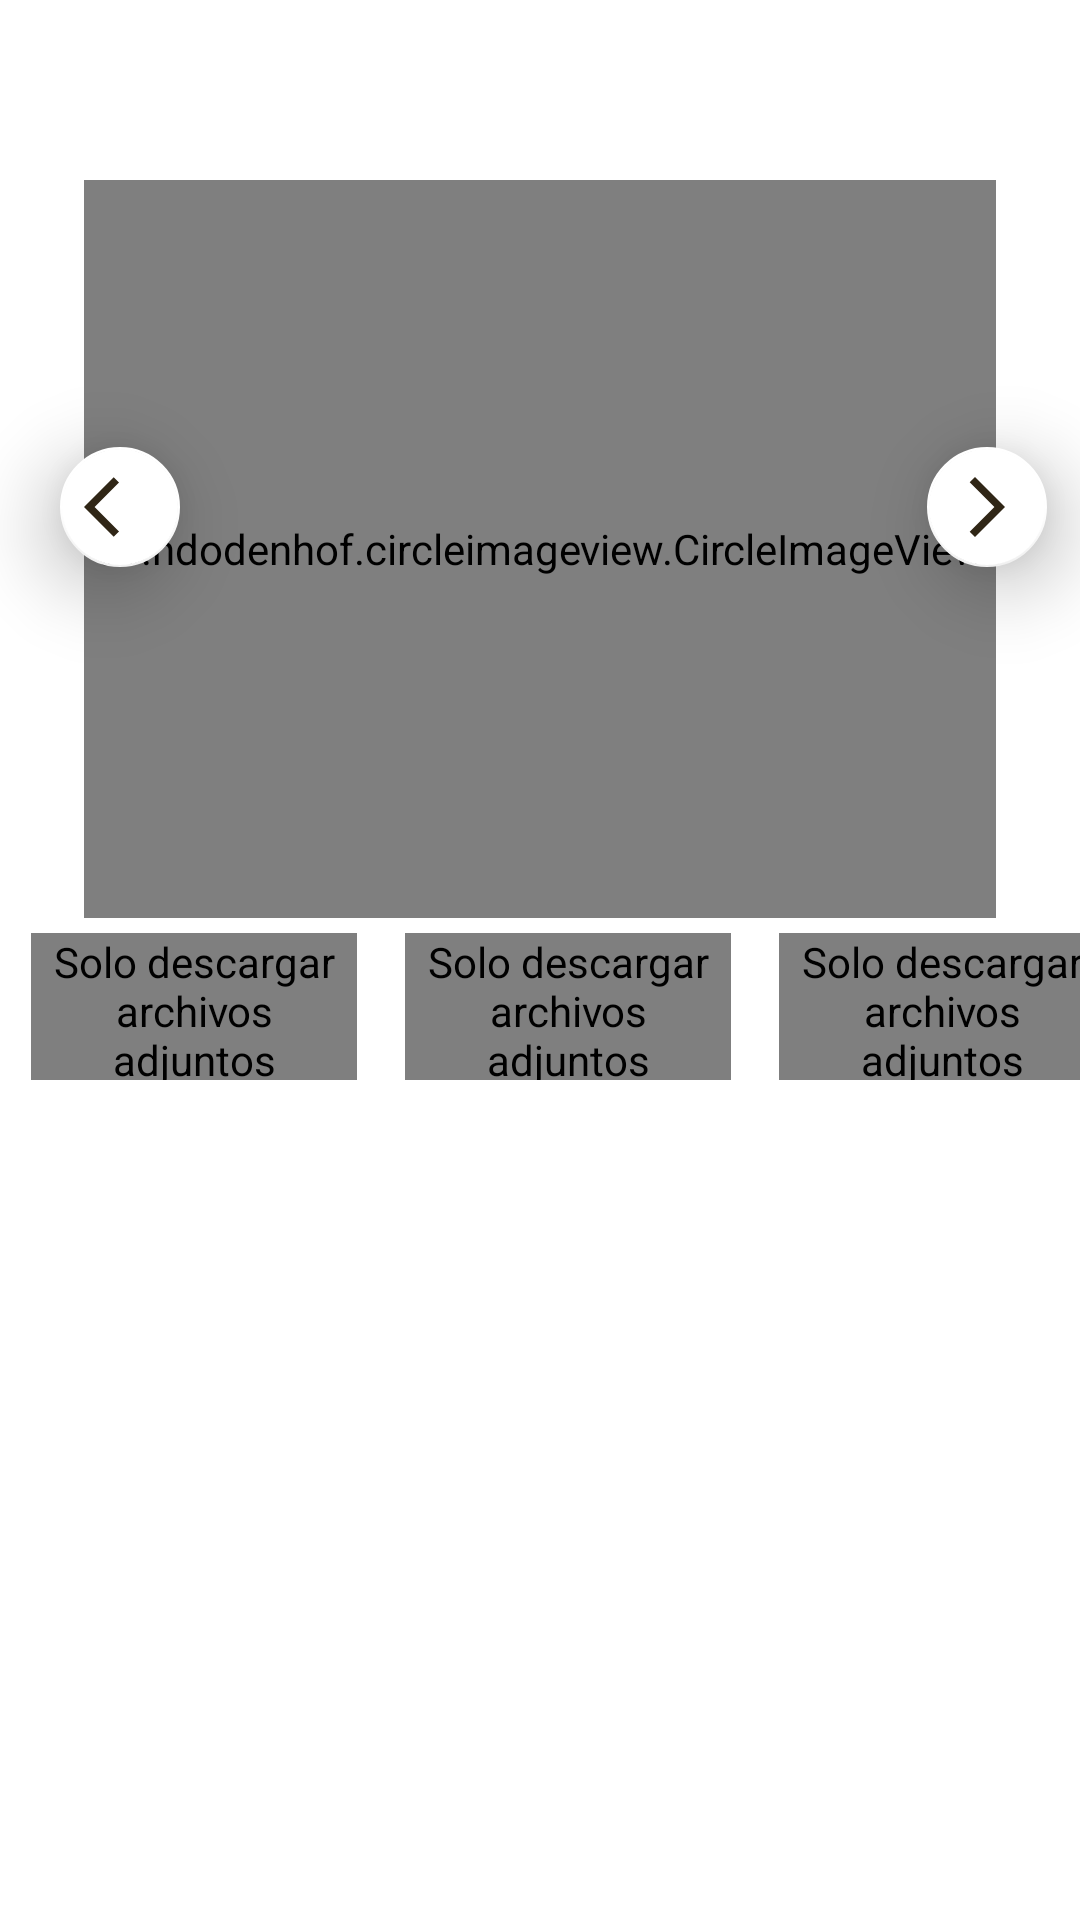

Named icons in this screenshot (1080w x 1920h) and their centers, (x,y):
next: (987,507)
